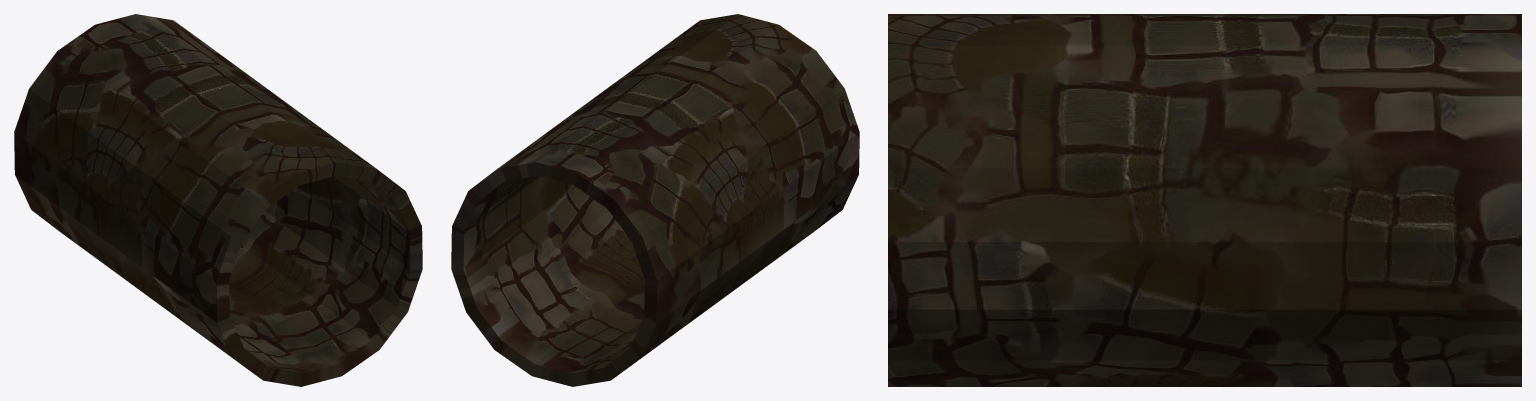
File: Crawlway_Tube_Straight_ColliderMesh.fbx
3 renders of one model, left to right at view 1: azimuth 30°, elevation 25°; view 2: azimuth 150°, elevation 25°; view 3: azimuth 270°, elevation 25°, orthographic. The views are drawn at different scales.
Visible parts, largest first — view 1: CrawlSpace_Pipe_Straight_ColliderMesh; view 2: CrawlSpace_Pipe_Straight_ColliderMesh; view 3: CrawlSpace_Pipe_Straight_ColliderMesh.
Part boxes in pixels (box(x1,y1,x2,y2)): CrawlSpace_Pipe_Straight_ColliderMesh: box(14, 14, 422, 386); CrawlSpace_Pipe_Straight_ColliderMesh: box(451, 14, 859, 386); CrawlSpace_Pipe_Straight_ColliderMesh: box(888, 14, 1521, 386).
Size of the model in its own units: 180 by 180 by 306.
